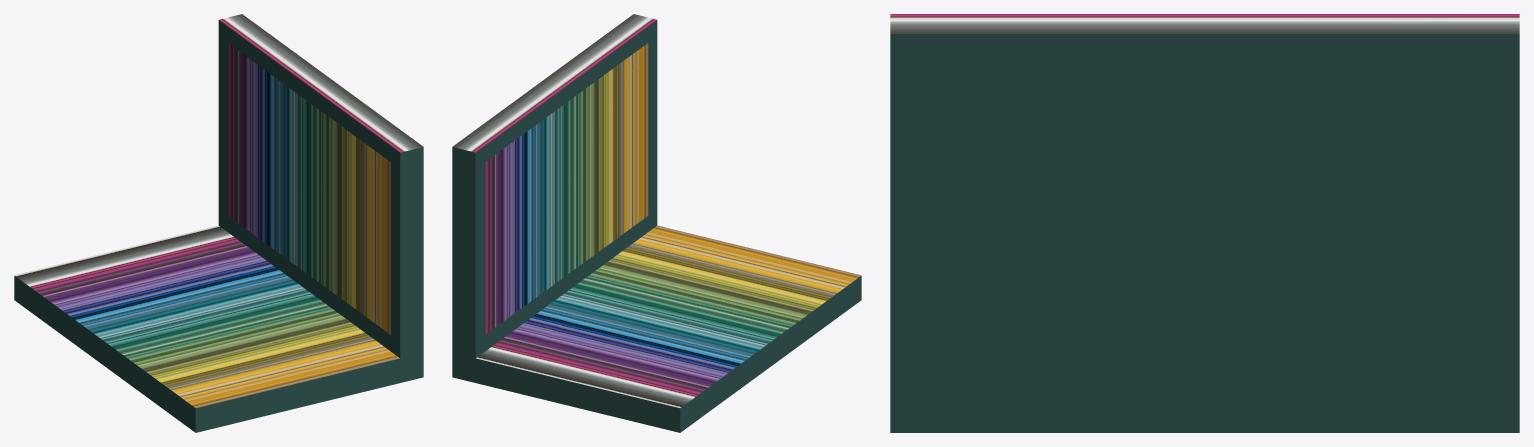
The model's file is laptop.glb.
The picture shows the model from 3 angles, left to right: view 1: azimuth 30°, elevation 25°; view 2: azimuth 150°, elevation 25°; view 3: azimuth 270°, elevation 25°; orthographic projection. The views are drawn at different scales.
Visible parts, largest first — view 1: laptop; view 2: laptop; view 3: laptop.
Boxes of the visible parts, left/top/right/bottom form: laptop: left=14, top=14, right=423, bottom=432; laptop: left=452, top=14, right=861, bottom=432; laptop: left=890, top=14, right=1519, bottom=432.
Bounding box in the file's own units: 2.9 × 2.8 × 4.
1 material, 1 textured.
